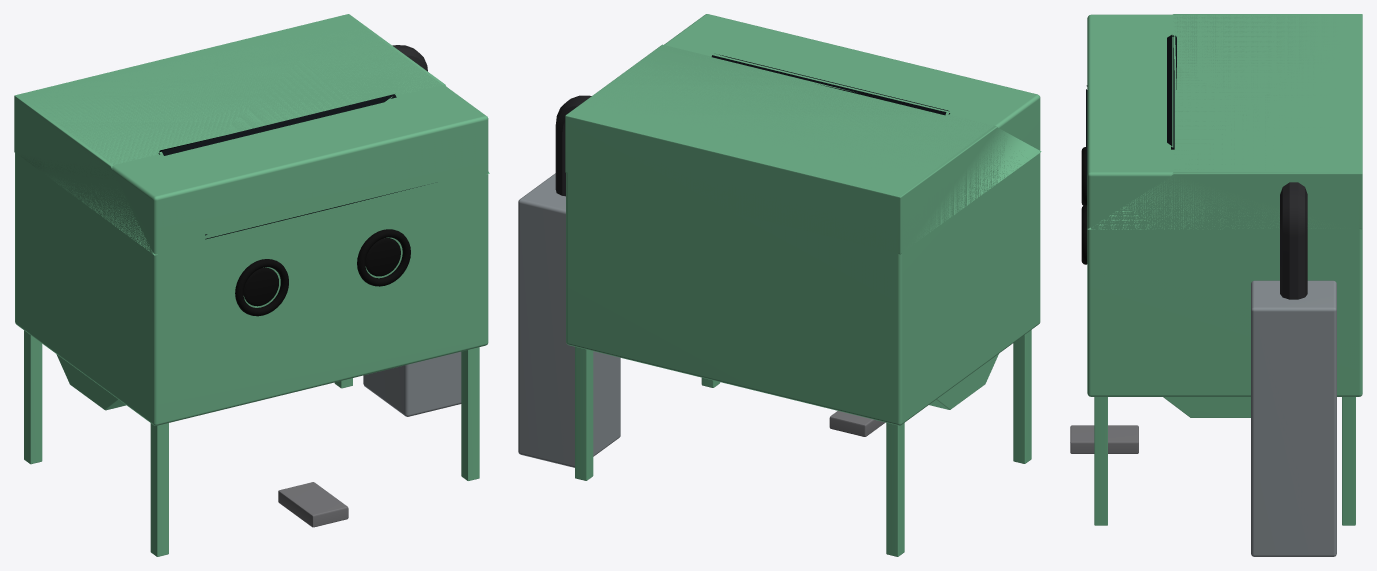
Rendered from industrial.workshop.repair_blaster.glb.
The picture shows the model from 3 angles, left to right: view 1: azimuth 30°, elevation 25°; view 2: azimuth 150°, elevation 25°; view 3: azimuth 270°, elevation 25°; orthographic projection. The views are drawn at different scales.
Visible parts, largest first — view 1: main__paint_6b8, main__rubber, main__paint_889, main__galv_777, main__glass_dark; view 2: main__paint_6b8, main__paint_889, main__paint_222, main__glass_dark, main__galv_777; view 3: main__paint_6b8, main__paint_889, main__paint_222, main__galv_777, main__glass_dark, main__rubber.
Part boxes in pixels (x1,y1,x2,y2): main__paint_6b8: [14, 14, 489, 556]; main__rubber: [235, 229, 410, 316]; main__paint_889: [363, 351, 461, 416]; main__galv_777: [278, 482, 348, 527]; main__glass_dark: [158, 94, 424, 239]; main__paint_6b8: [565, 14, 1041, 556]; main__paint_889: [518, 173, 620, 467]; main__paint_222: [555, 95, 591, 196]; main__glass_dark: [711, 54, 949, 115]; main__galv_777: [829, 411, 885, 436]; main__paint_6b8: [1087, 14, 1362, 525]; main__paint_889: [1251, 280, 1336, 556]; main__paint_222: [1280, 182, 1307, 299]; main__galv_777: [1070, 425, 1138, 453]; main__glass_dark: [1086, 35, 1176, 195]; main__rubber: [1081, 147, 1087, 264].
Size of the model in its own units: 1.3 by 1.15 by 0.85.
